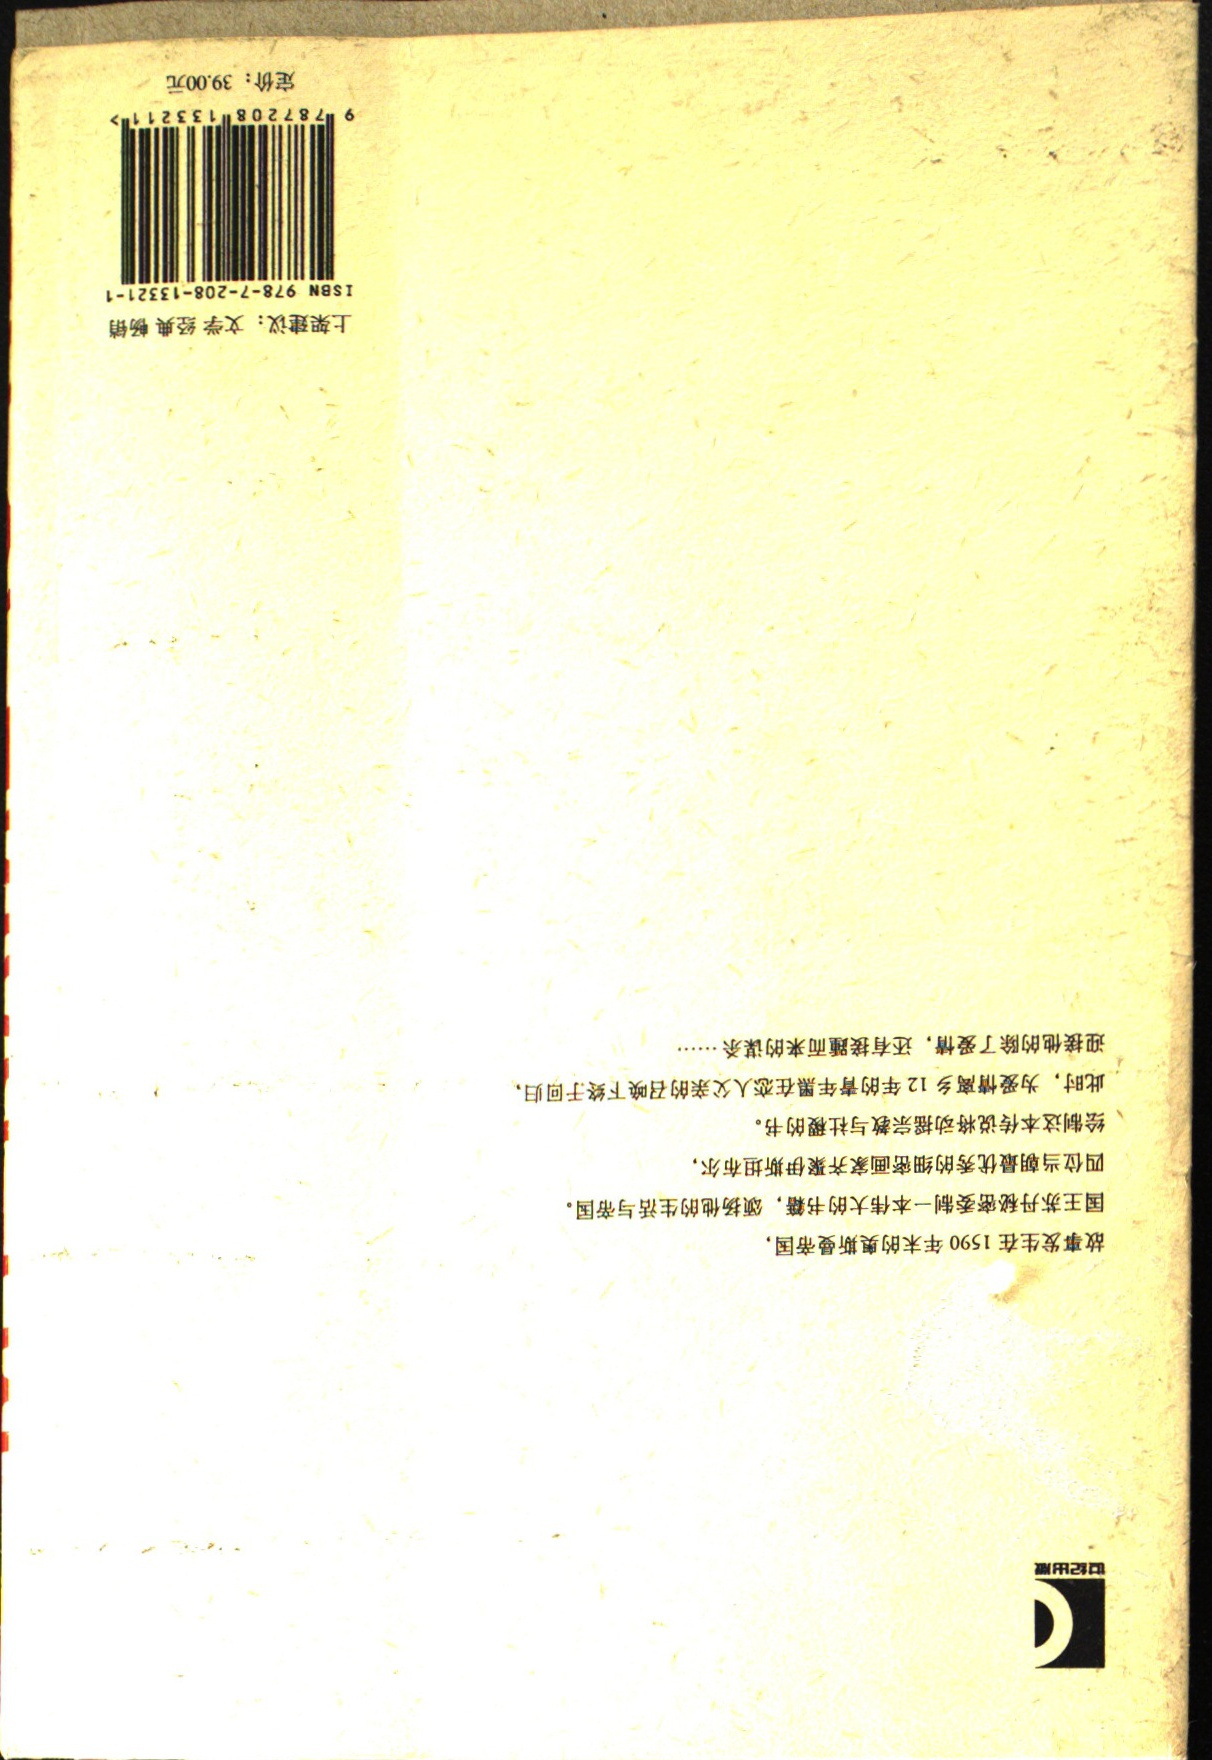barcode: (90, 126, 389, 316)
